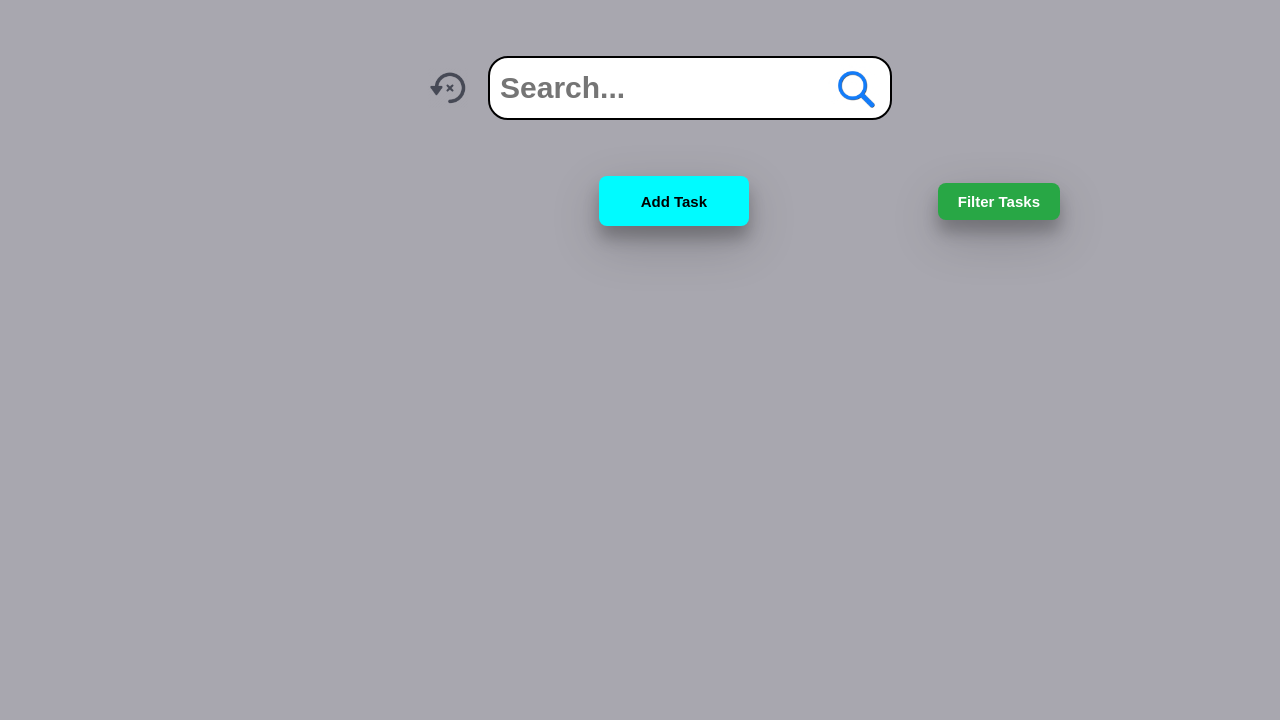
it: Add Task Form is displayed when Add Task button is clicked
Click the button "Add Task" at x=674, y=201, box x1=599 y1=176 x2=749 y2=226
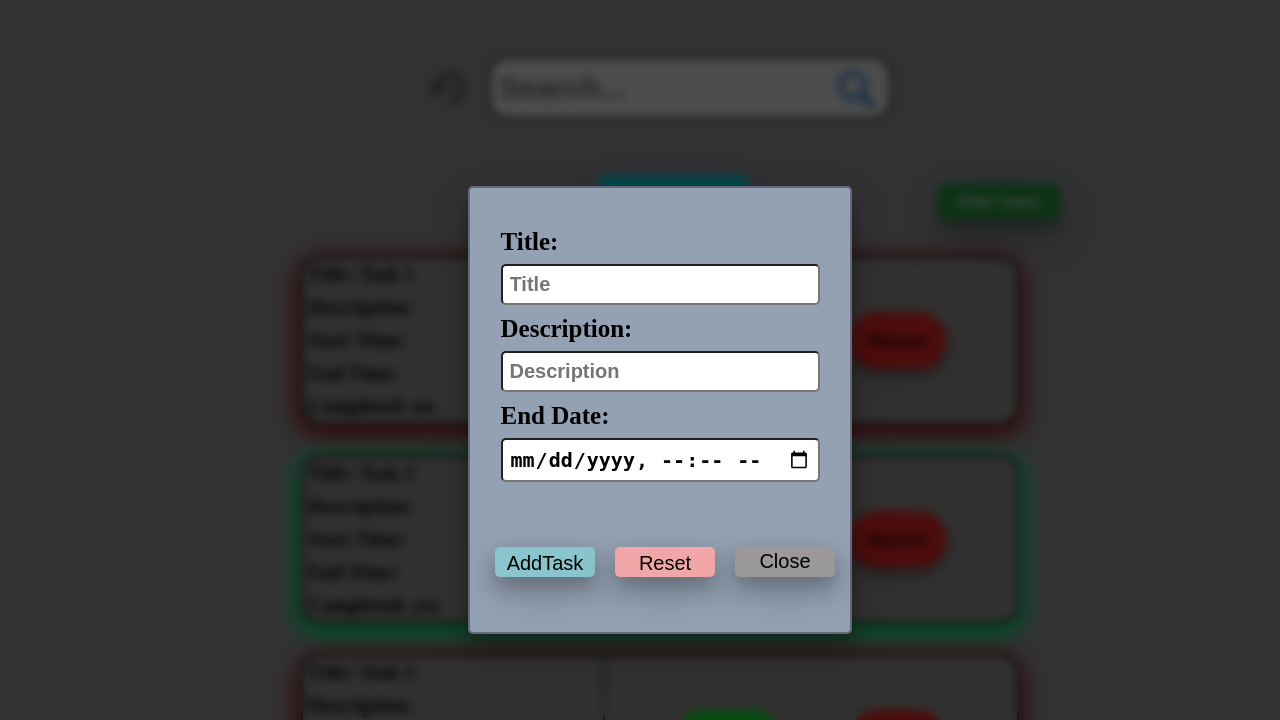
Now the element with class "Overlay" is shown
